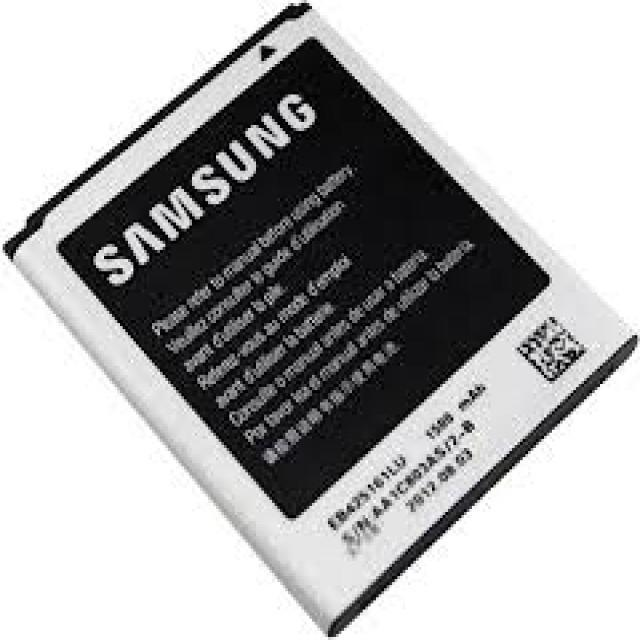battery: (3, 0, 636, 640)
